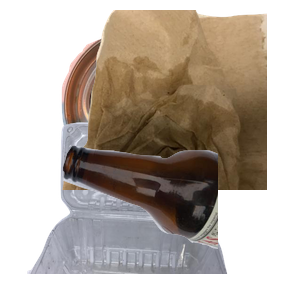glass: (60, 142, 300, 300)
metal: (59, 10, 273, 189)
plastic: (25, 120, 245, 300)
trash: (60, 10, 300, 190)
